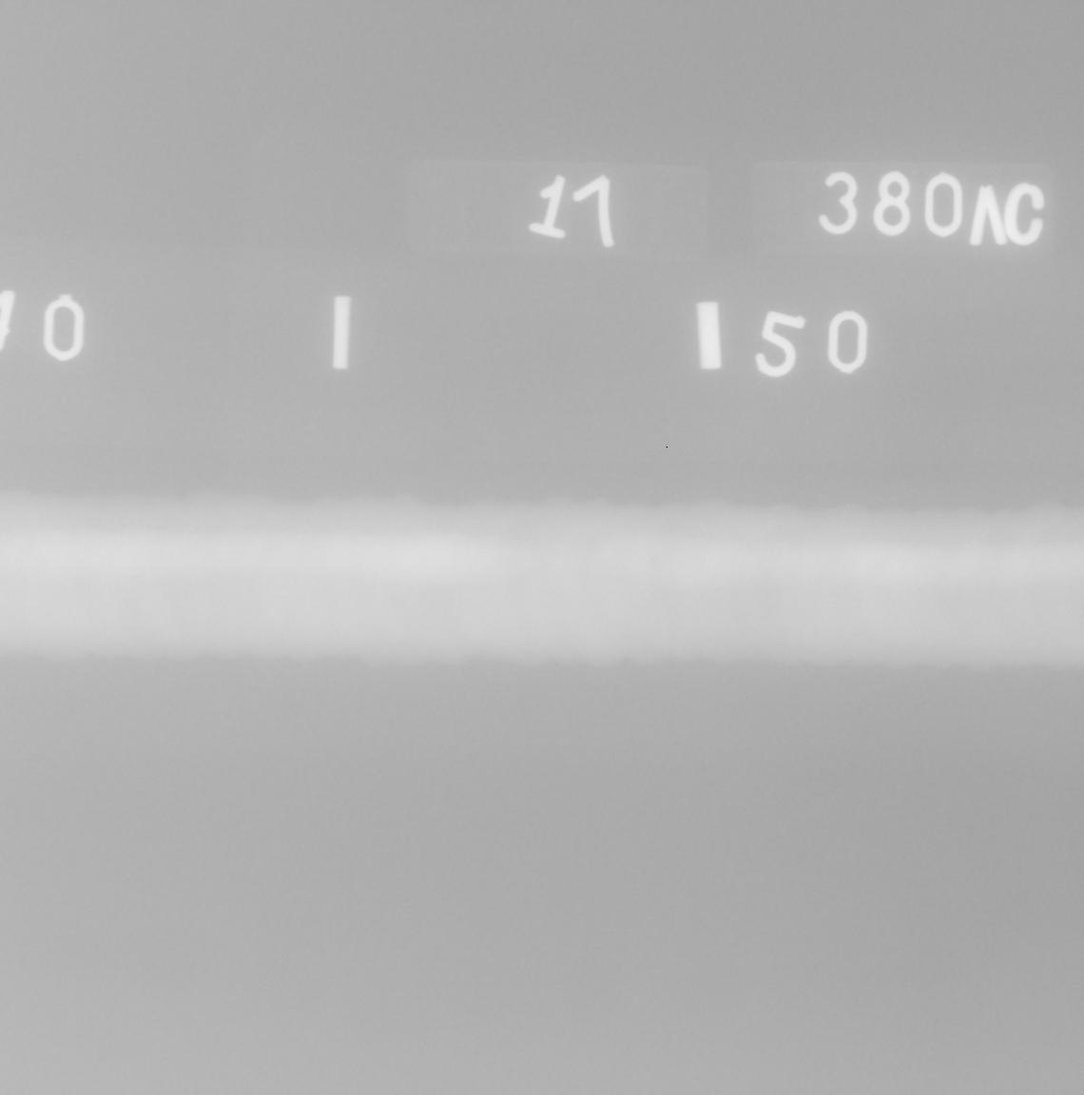Inclusion: (648, 556, 659, 564)
Pore/Porosity: (300, 541, 304, 544)
